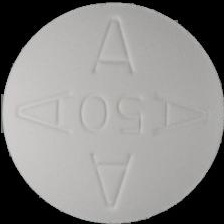55289-406: (0, 0, 224, 224)
